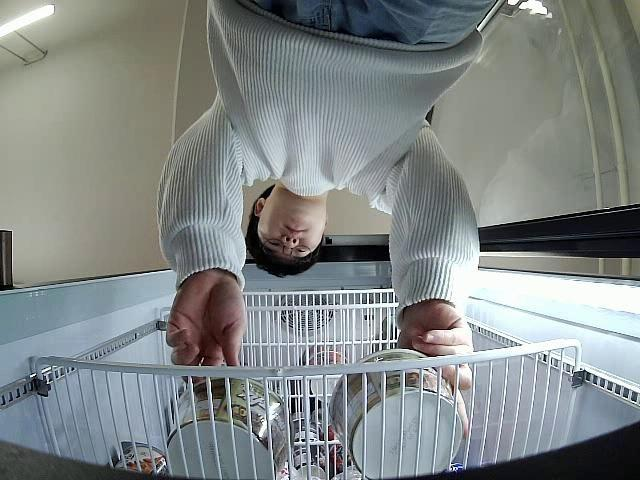03_chapagetti_L: (330, 349, 465, 478), (165, 376, 294, 480)
